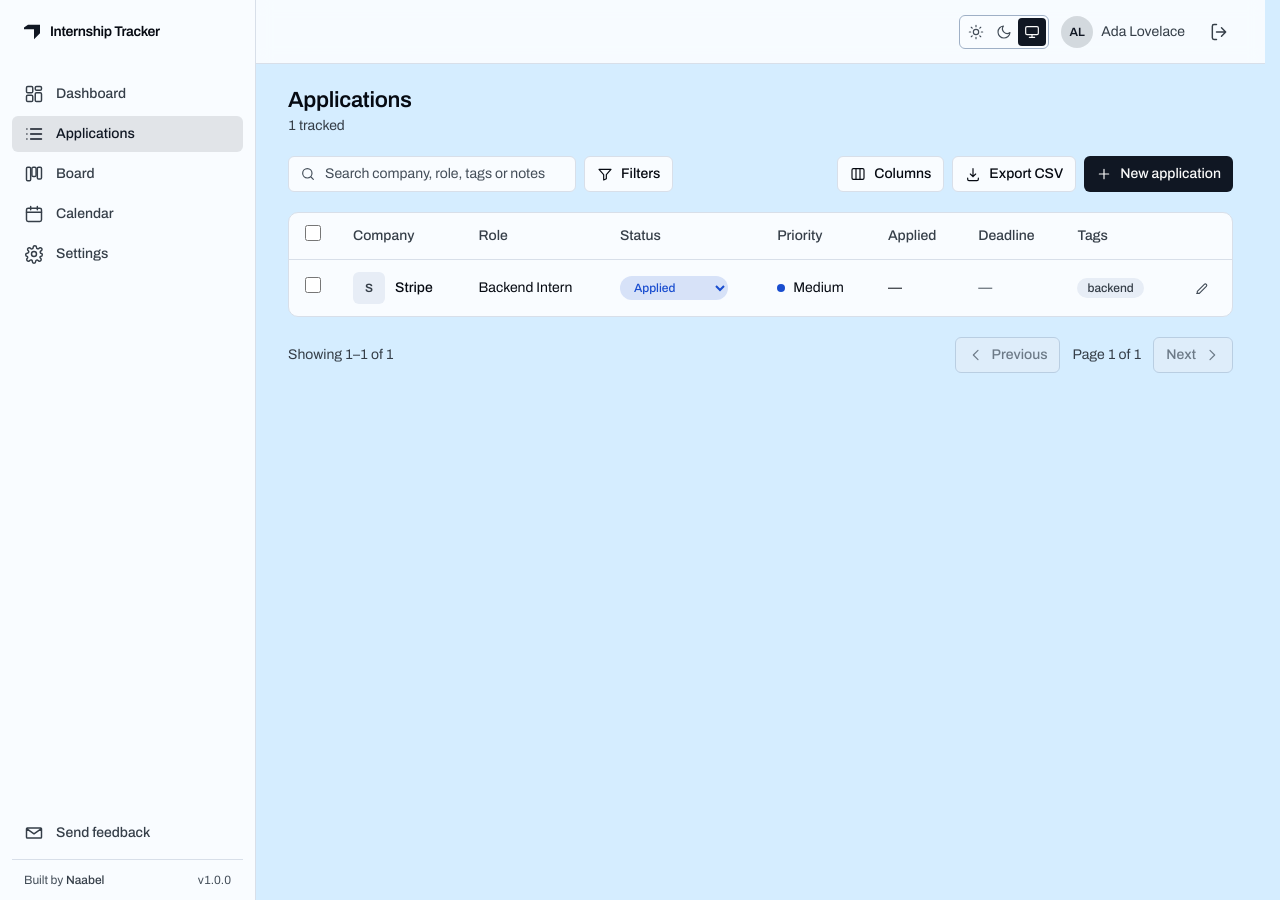
Test: edit modal surviving the row leaving the list › still PATCHes the original row, with the typed values, after it returns
Expected: the link "S Stripe" is shown, [353, 272, 433, 304]
Click the button named "Edit Stripe". click: (1202, 288)
box: [1188, 274, 1216, 302]
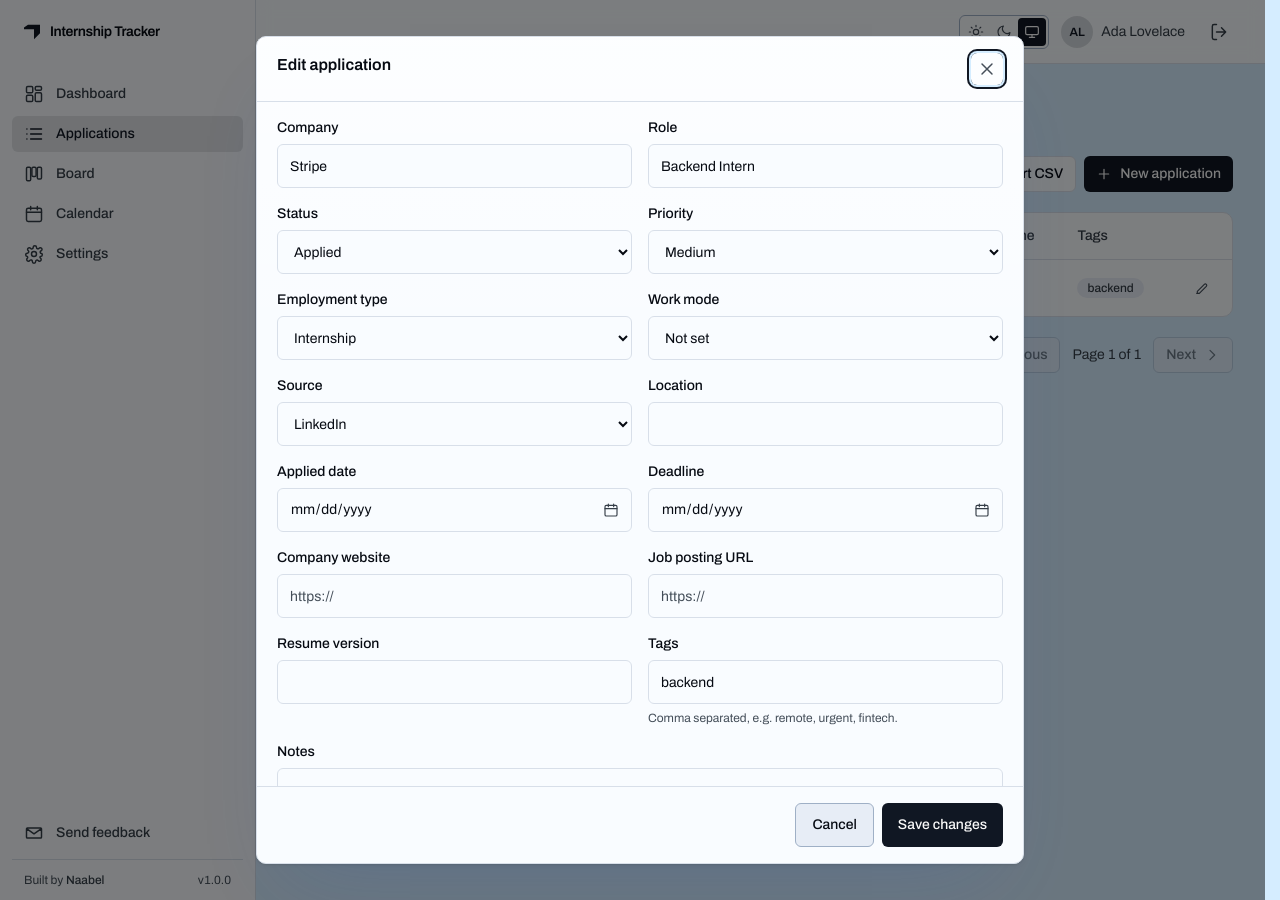
Replace the text in the field labelled "Role" with "Distributed Systems Intern". click: (826, 166)
box: [648, 144, 1003, 188]
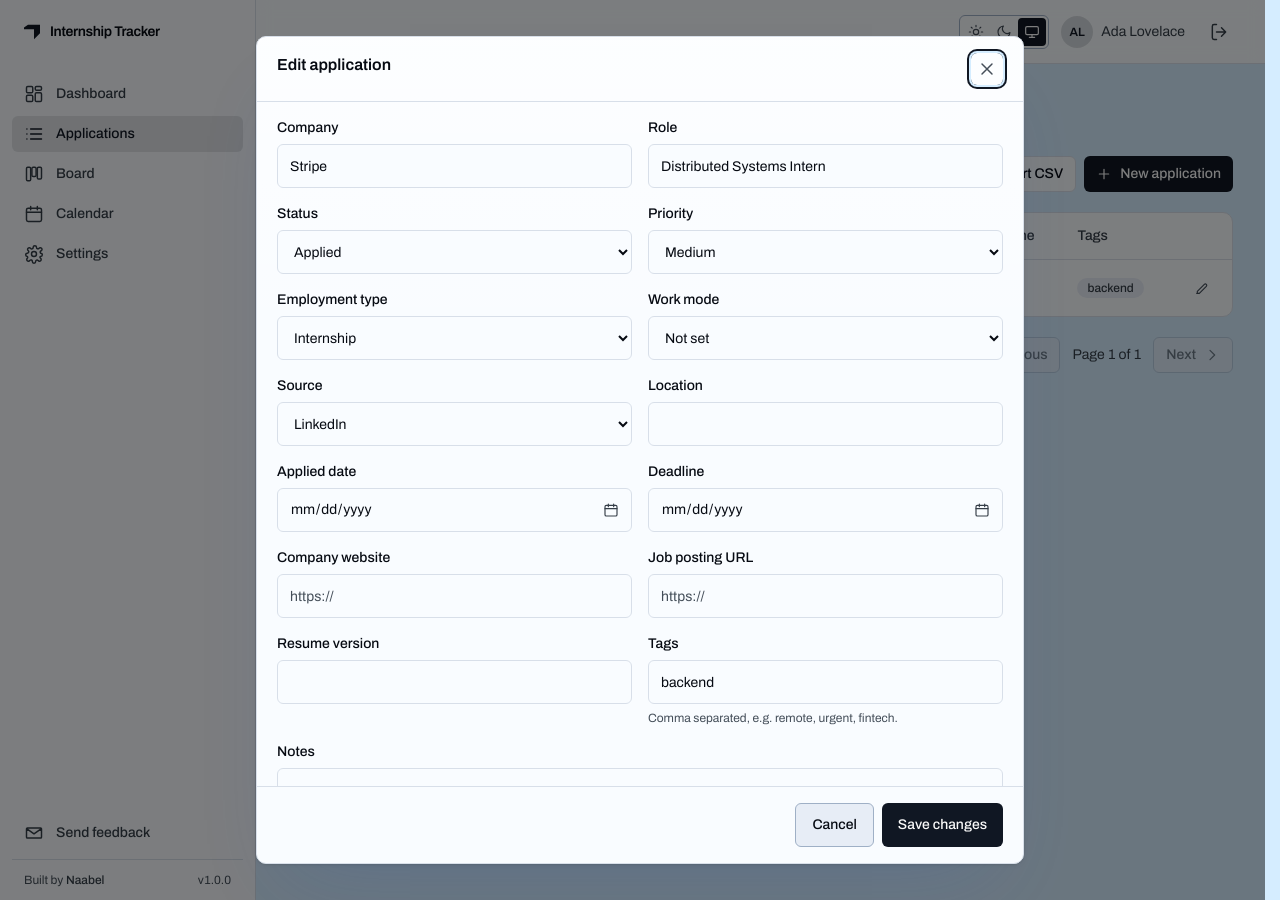
Expected: the text "Backend Intern" is shown, [462, 260, 604, 316]
Click the button "Save changes". click: (942, 825)
box: [882, 803, 1003, 847]
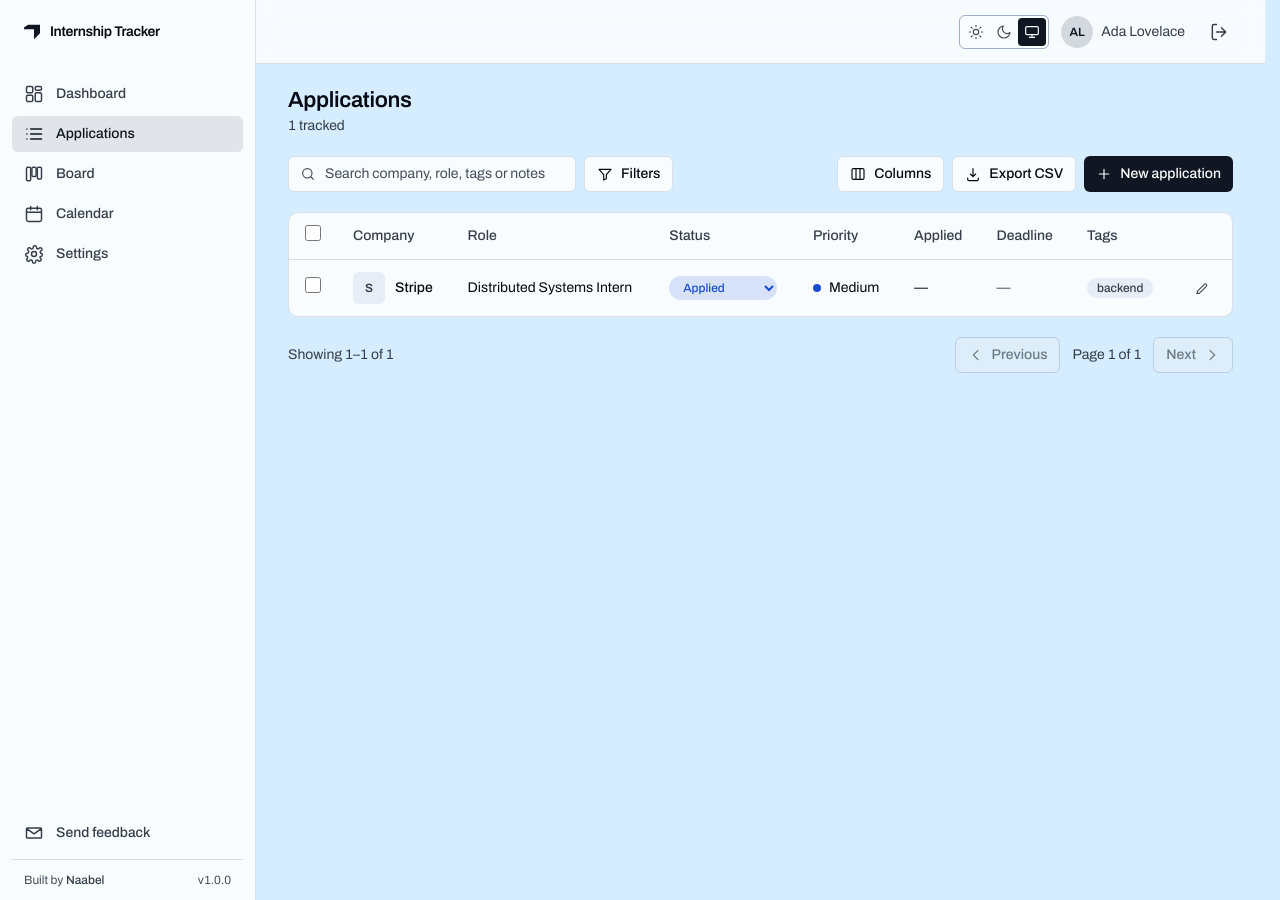
Now the text "Backend Intern" reads "Distributed Systems Intern", box [468, 280, 632, 295]
